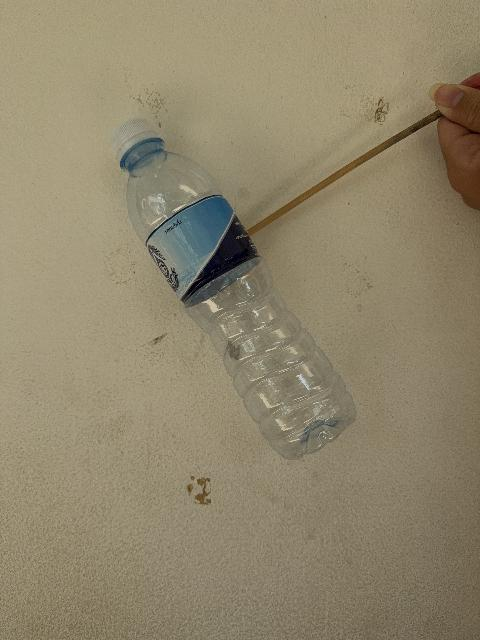bottle: (110, 119, 354, 459)
